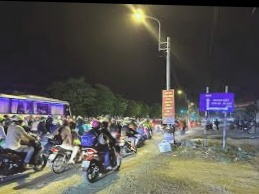Bien-so: (79, 156, 88, 165), (47, 152, 55, 158)
